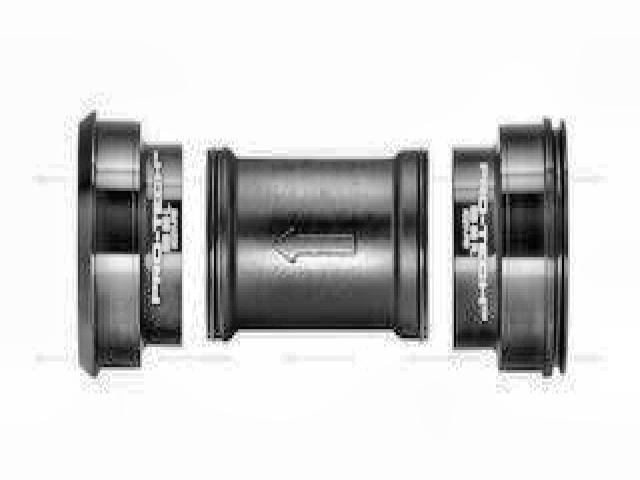bottom_bracket: (75, 107, 568, 380)
